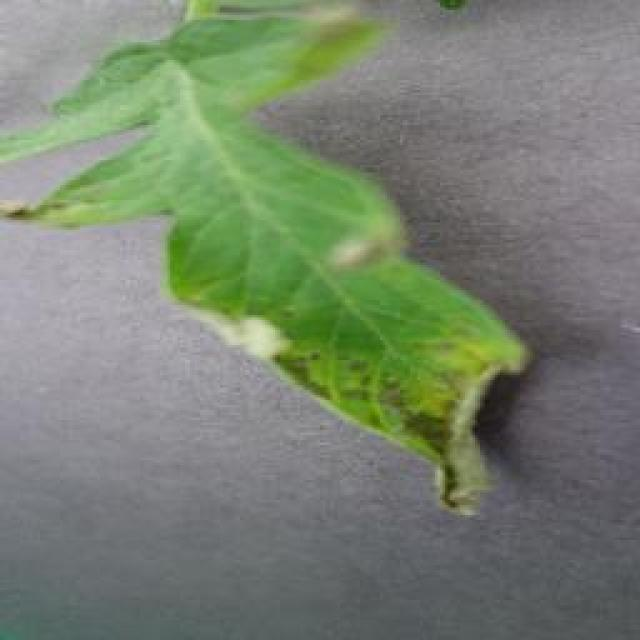Tomato late blight leaf: (0, 0, 528, 515)
